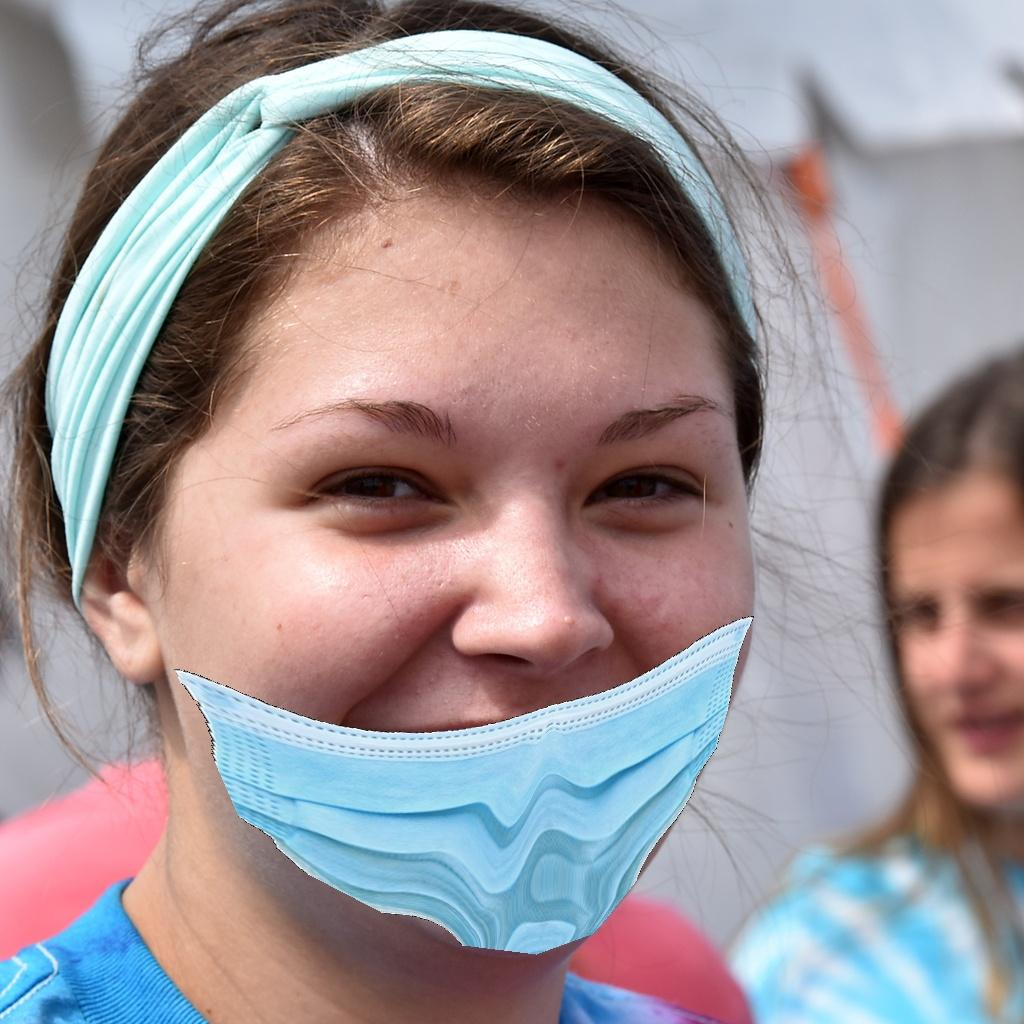Com Máscara: (876, 471, 1024, 797)
Máscara Incorreta: (206, 270, 756, 926)
